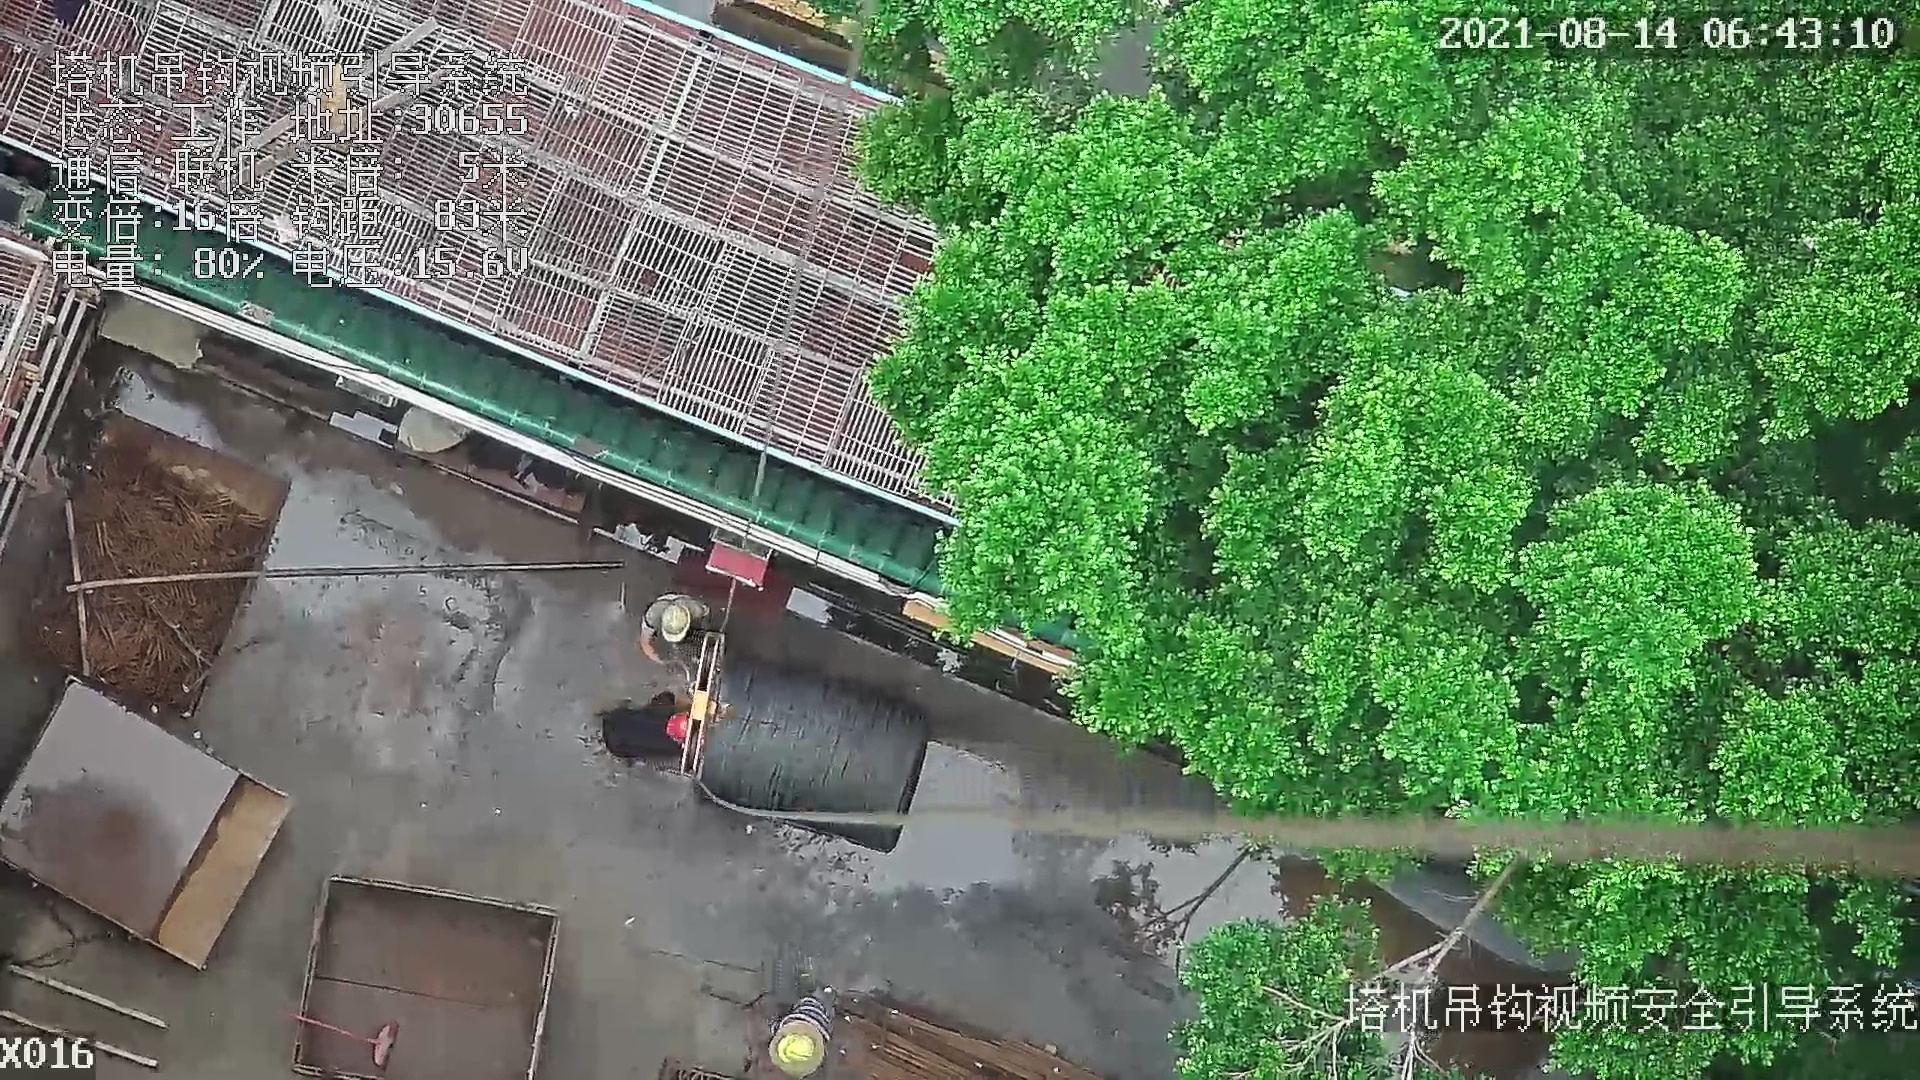helmet: (771, 1026, 818, 1063), (660, 708, 696, 743), (659, 604, 685, 641)
hook: (668, 626, 726, 778)
person: (597, 686, 699, 763), (635, 592, 709, 673), (774, 995, 845, 1073)
